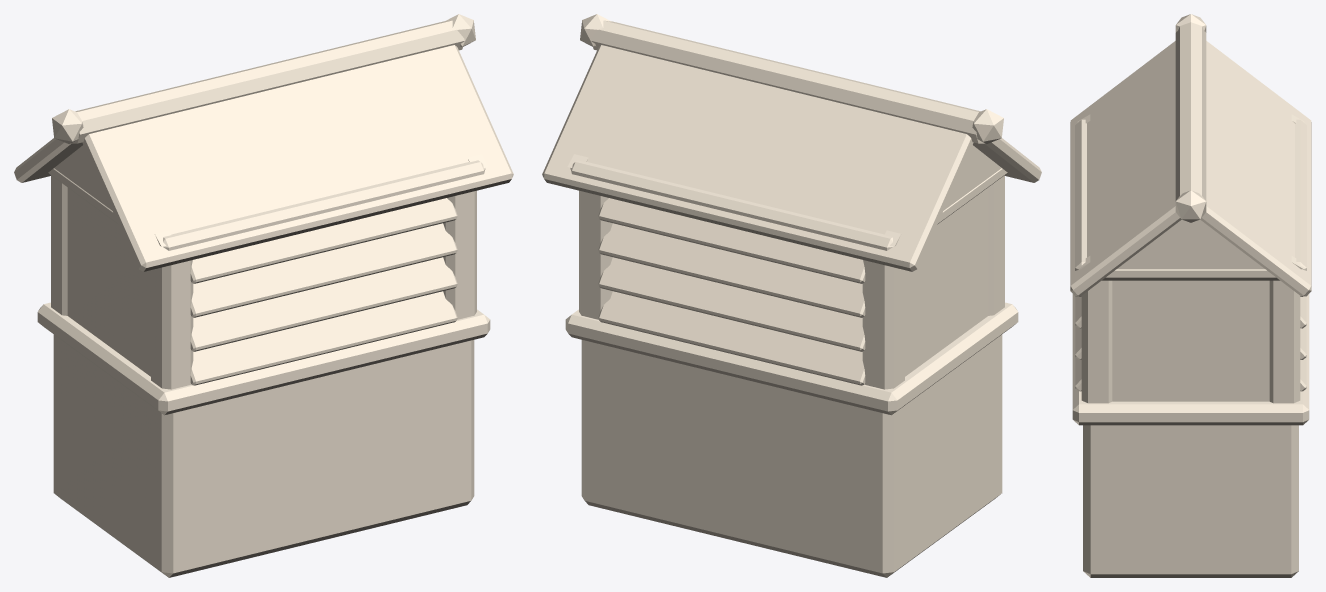
File: SM_VK_Roof_Vent.fbx
3 views of the same model, side by side, from view 1: azimuth 30°, elevation 25°; view 2: azimuth 150°, elevation 25°; view 3: azimuth 270°, elevation 25° (orthographic). The views are drawn at different scales.
Visible parts, largest first — view 1: SM_VK_Roof_Vent.001; view 2: SM_VK_Roof_Vent.001; view 3: SM_VK_Roof_Vent.001.
Part boxes in pixels (left/top/right/bottom): SM_VK_Roof_Vent.001: left=14, top=14, right=513, bottom=577; SM_VK_Roof_Vent.001: left=542, top=14, right=1041, bottom=577; SM_VK_Roof_Vent.001: left=1070, top=14, right=1311, bottom=577.
Bounding box in the file's own units: 1.75 × 1.75 × 0.9385.
